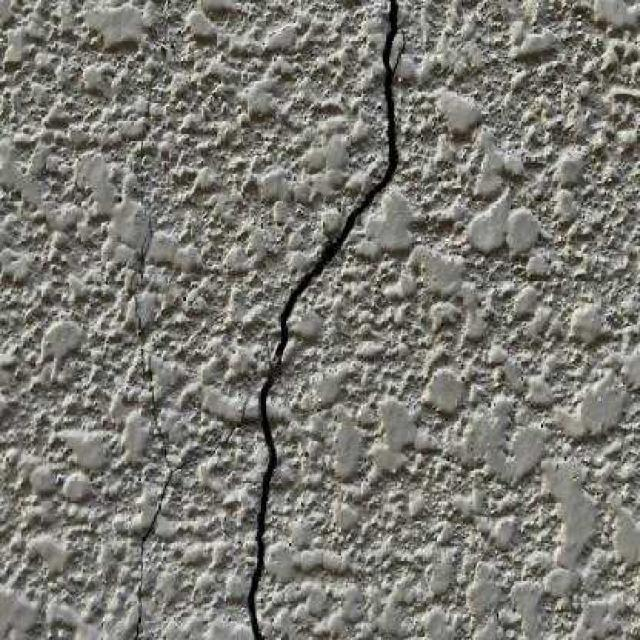D00: (245, 0, 402, 640)
